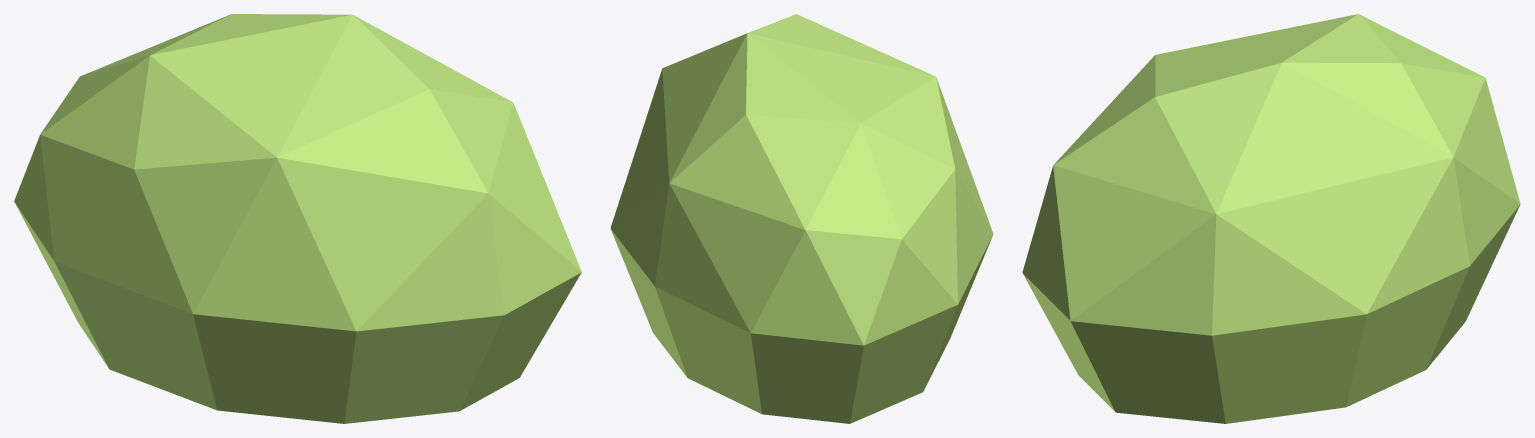
The model's file is Bush_h_m_02.fbx.
The picture shows the model from 3 angles, left to right: view 1: azimuth 30°, elevation 25°; view 2: azimuth 150°, elevation 25°; view 3: azimuth 270°, elevation 25°; orthographic projection. The views are drawn at different scales.
Parts seen in each view (by area): view 1: Bush_h_m_02; view 2: Bush_h_m_02; view 3: Bush_h_m_02.
Part boxes in pixels (x1,y1,x2,y2): Bush_h_m_02: (14,14,581,423); Bush_h_m_02: (610,14,993,423); Bush_h_m_02: (1022,14,1520,423).
Bounding box in the file's own units: 1.49 × 1.1 × 1.6.
